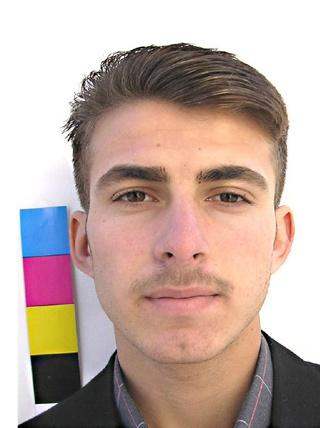No Mask: (65, 103, 316, 395)
